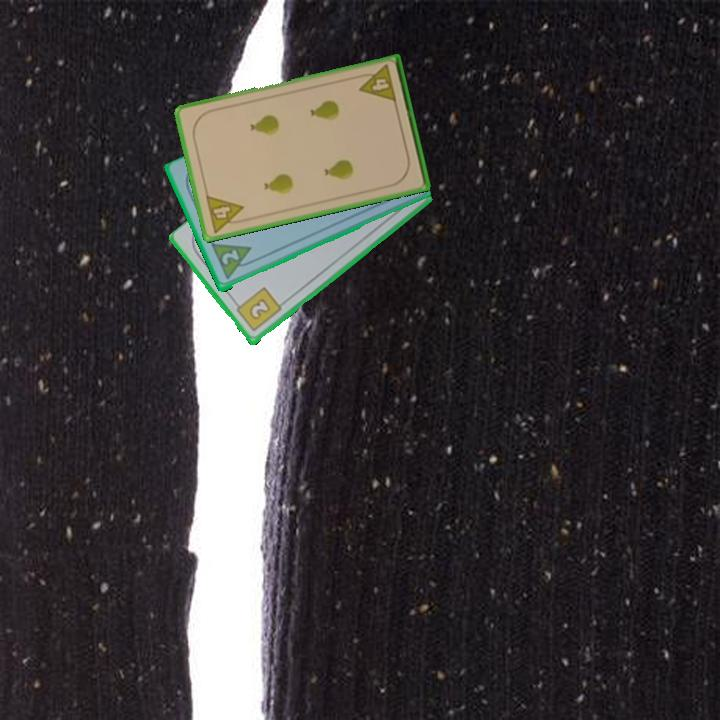2b: (231, 284, 284, 335)
2p: (208, 240, 259, 283)
4p: (202, 192, 249, 235), (354, 61, 399, 105)
